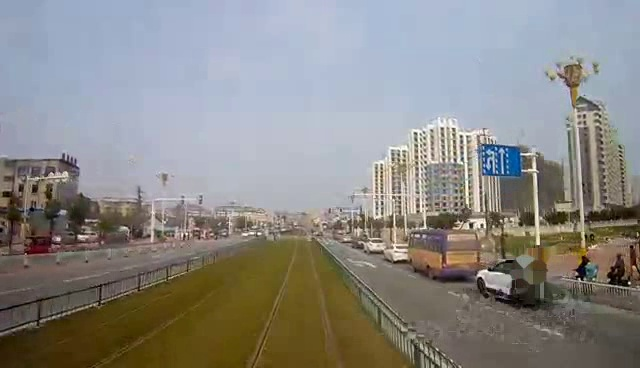bus: (407, 225, 482, 282)
car: (475, 255, 568, 306), (383, 240, 416, 262), (366, 236, 387, 255)
motorcycle: (566, 253, 605, 294)
